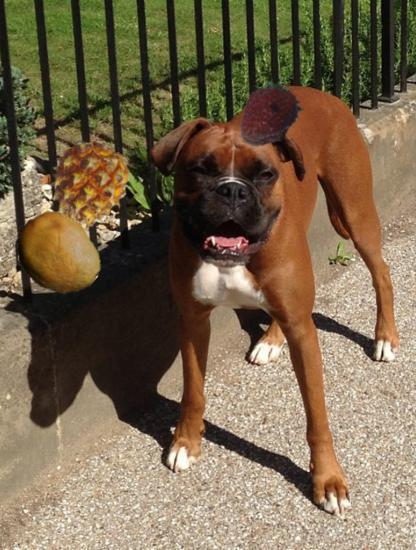Papaya: (15, 210, 104, 299)
Pineapple: (44, 138, 134, 228)
Strawberry: (233, 81, 304, 152)
